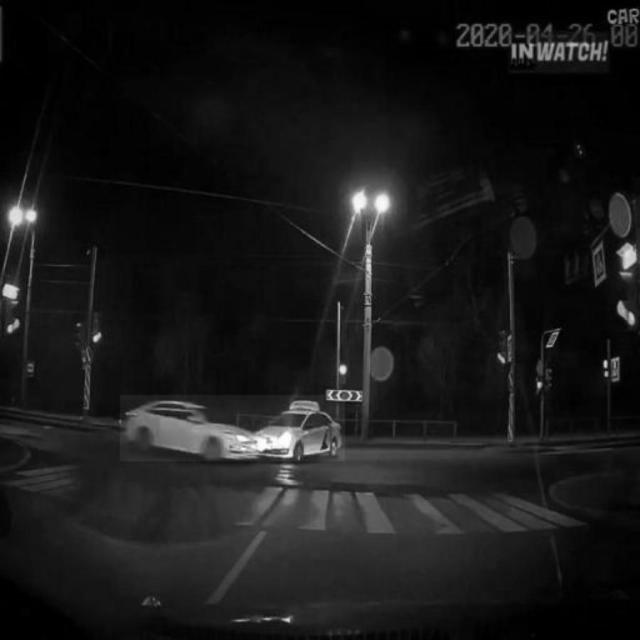accident: (120, 395, 346, 461)
